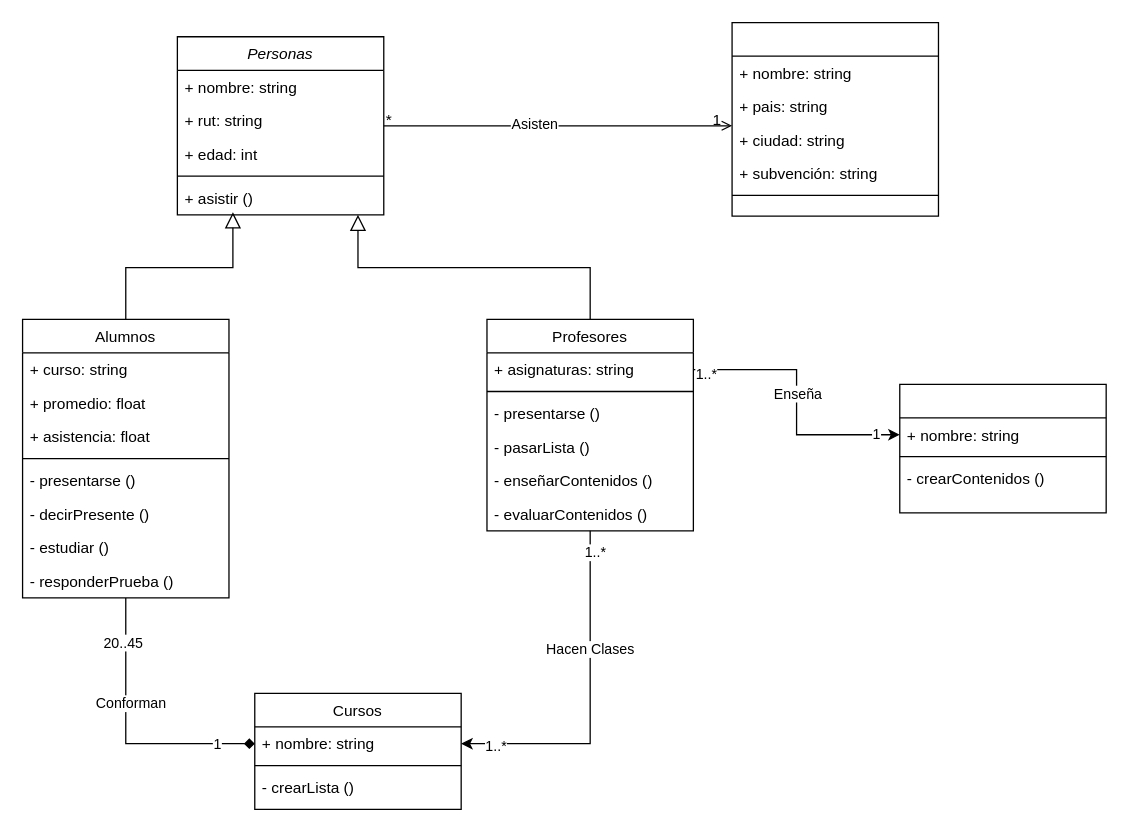
The diagram is 1129 pixels wide and 832 high, and some of its shapes have lost their labels. The shapes that lost their labels are listed below. From the top down, each one's box as (x1, y1, x2, y2) in pixels, then its label:
(731, 21, 938, 216): Escuela
(898, 383, 1106, 513): Asignaturas
